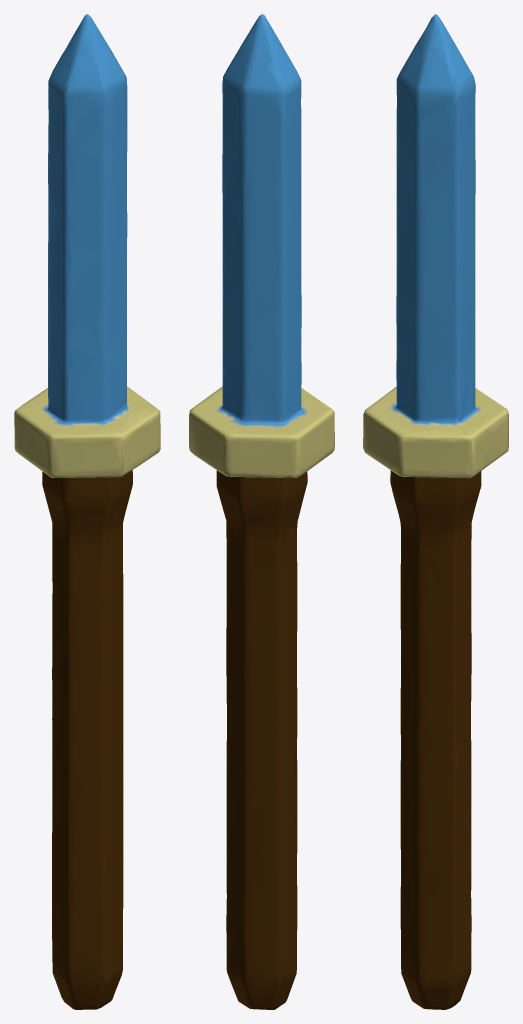
Rendered from gen3d-magic-wand-lod0.glb.
3 views of the same model, side by side, from view 1: azimuth 30°, elevation 25°; view 2: azimuth 150°, elevation 25°; view 3: azimuth 330°, elevation 25° (orthographic).
Parts seen in each view (by area): view 1: part_0; view 2: part_0; view 3: part_0.
Part boxes in pixels (<box>): part_0: <box>14,14,160,1009</box>; part_0: <box>189,14,334,1009</box>; part_0: <box>363,14,508,1009</box>.
Bounding box in the file's own units: 0.1172 × 1 × 0.1296.
